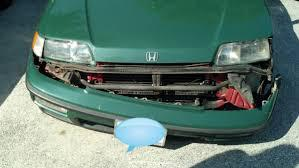front-bumper-dent: (53, 72, 277, 137)
